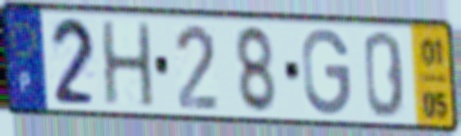0: (362, 28, 406, 122)
2: (49, 12, 101, 110), (172, 21, 222, 114)
8: (233, 23, 278, 116)
G: (300, 26, 353, 119)
H: (98, 19, 158, 111)
